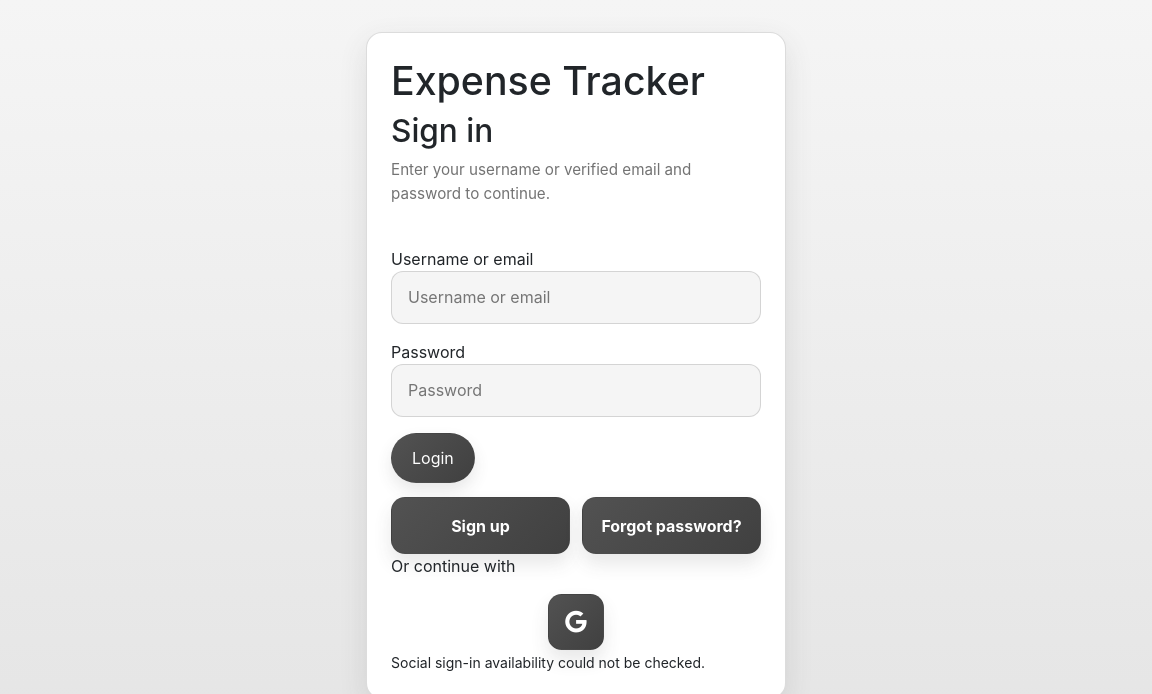
it: Login unit tests › switches to the registration fields when sign up is pressed
Click the button "Sign up" at (480, 526), box x1=391 y1=497 x2=570 y2=554
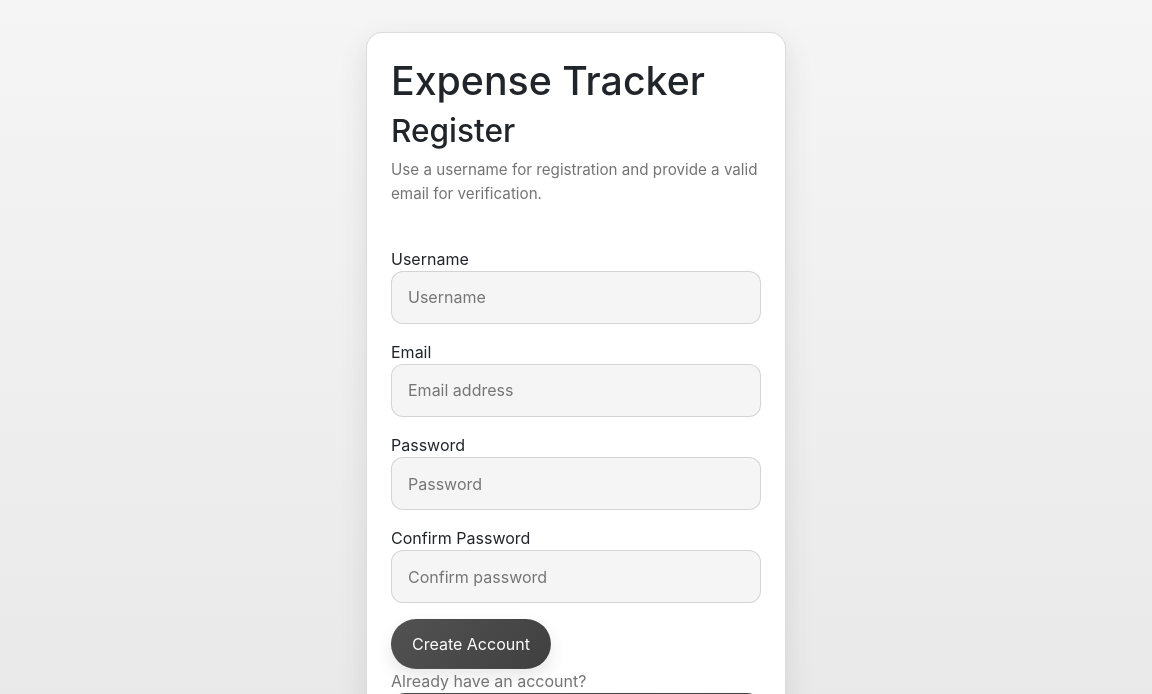
Expected: the field labelled "Username" is shown, x1=391 y1=271 x2=761 y2=324
Expected: the heading "Register" is shown, x1=391 y1=111 x2=515 y2=150
Expected: the field labelled "Email" is shown, x1=391 y1=364 x2=761 y2=417
